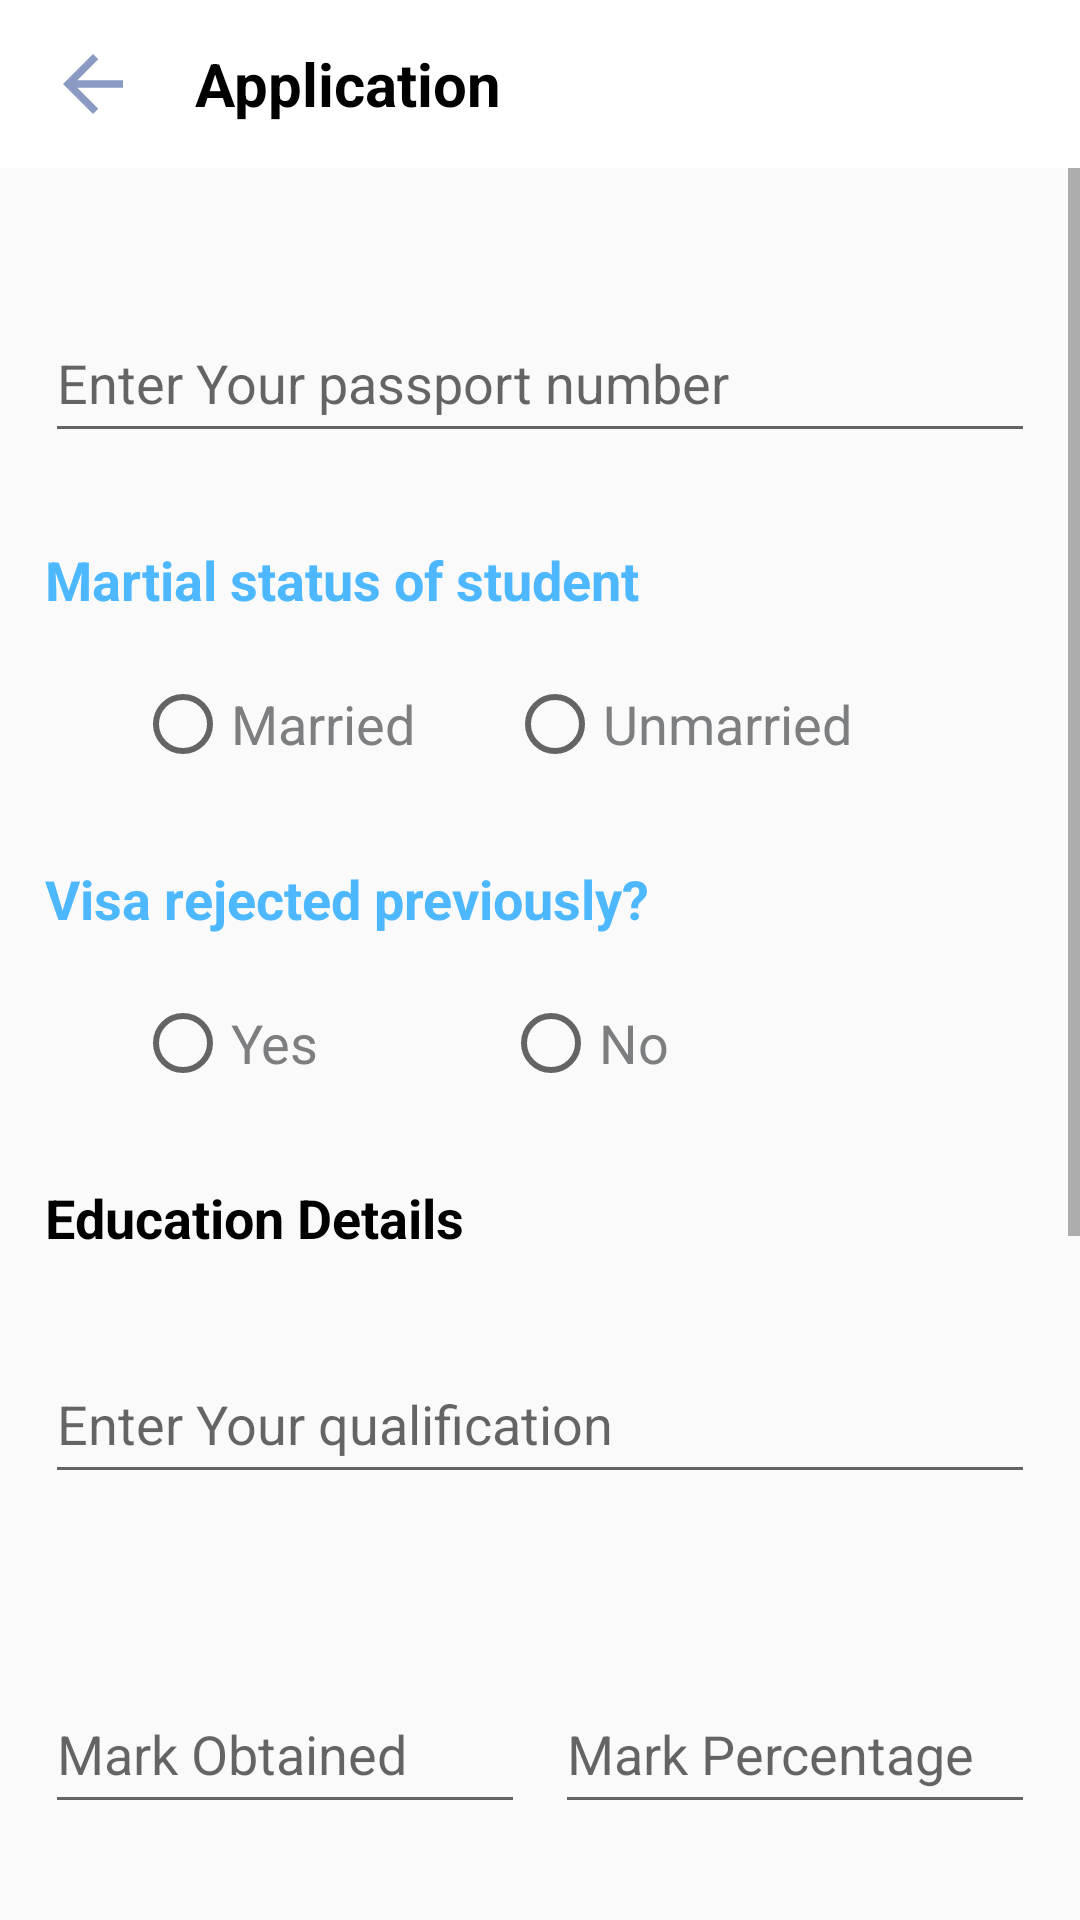

Named icons in this screenshot (1080px x 1920px) and their bounding boxes, box(x1, y1, x2, y2):
arrow back: box(63, 54, 123, 114)
